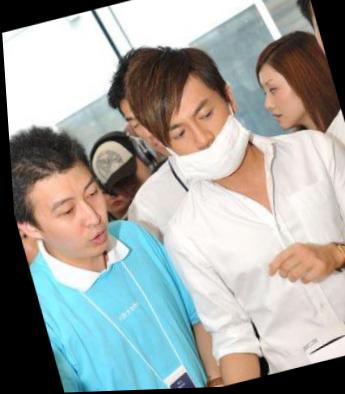NONE: (35, 174, 119, 268), (257, 72, 318, 138)
WRONG: (142, 79, 259, 193)
